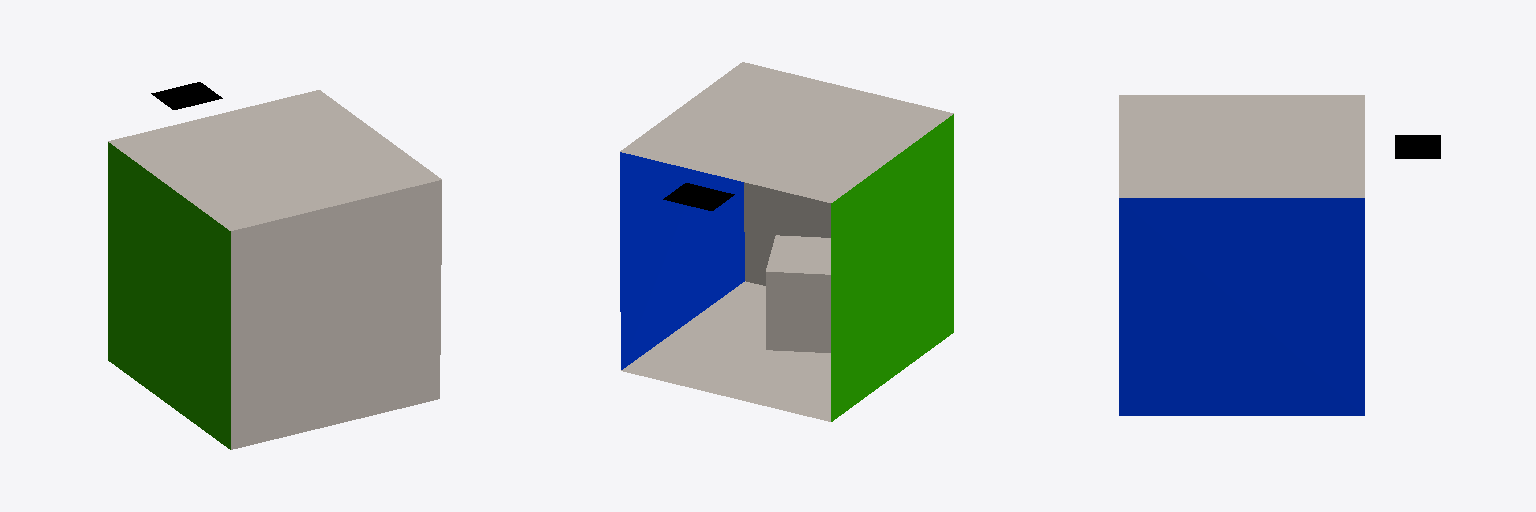
The model's file is back.obj.
3 views of the same model, side by side, from view 1: azimuth 30°, elevation 25°; view 2: azimuth 150°, elevation 25°; view 3: azimuth 270°, elevation 25° (orthographic).
Parts seen in each view (by area): view 1: back:Mesh4, back:Mesh6, back:Mesh3, back:Mesh1; view 2: back:Mesh6, back:Mesh3, back:Mesh5, back:Mesh2, back:pCube1, back:Mesh4, back:Mesh1; view 3: back:Mesh5, back:Mesh3, back:Mesh1.
Boxes of the visible parts, x1,y1,x2,y2 form: back:Mesh4: [231, 180, 441, 449]; back:Mesh6: [108, 142, 230, 449]; back:Mesh3: [108, 90, 441, 230]; back:Mesh1: [151, 82, 222, 109]; back:Mesh6: [831, 114, 953, 421]; back:Mesh3: [620, 62, 953, 202]; back:Mesh5: [620, 152, 744, 369]; back:Mesh2: [621, 281, 830, 421]; back:pCube1: [766, 235, 830, 352]; back:Mesh4: [744, 182, 830, 285]; back:Mesh1: [663, 183, 734, 210]; back:Mesh5: [1119, 198, 1364, 415]; back:Mesh3: [1119, 95, 1364, 197]; back:Mesh1: [1395, 135, 1440, 158].
Bounding box in the file's own units: 556 × 549 × 732.